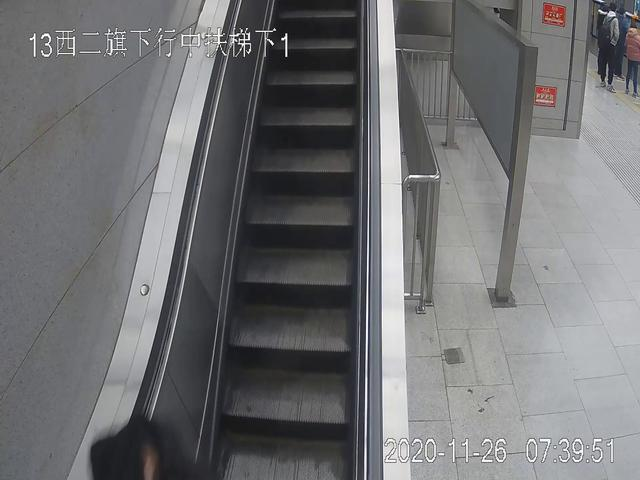person: (598, 5, 624, 92), (623, 22, 640, 93)
